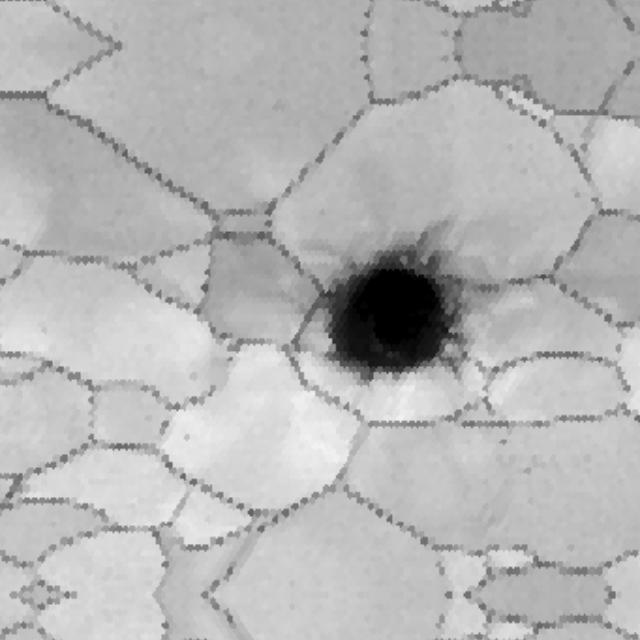good_void: (294, 213, 485, 391), (496, 436, 511, 448), (184, 429, 193, 443)
